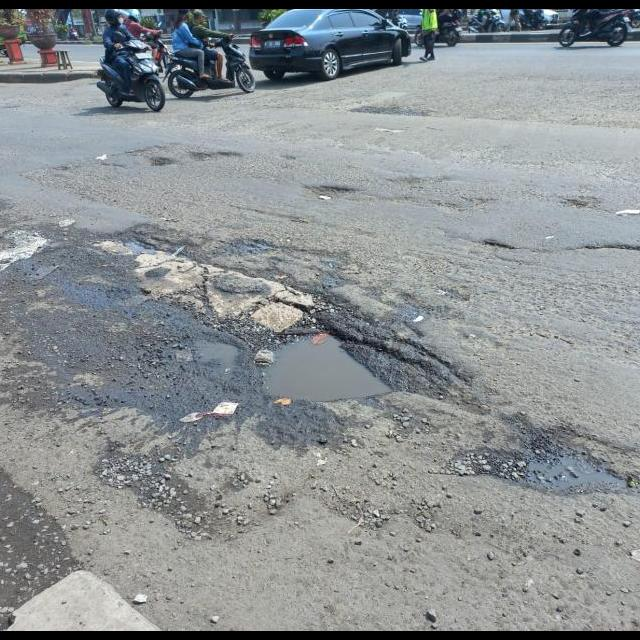lubang_kecil: (241, 301, 426, 435), (94, 219, 171, 267), (292, 171, 365, 210)
retak_memanjang: (458, 207, 640, 295)
